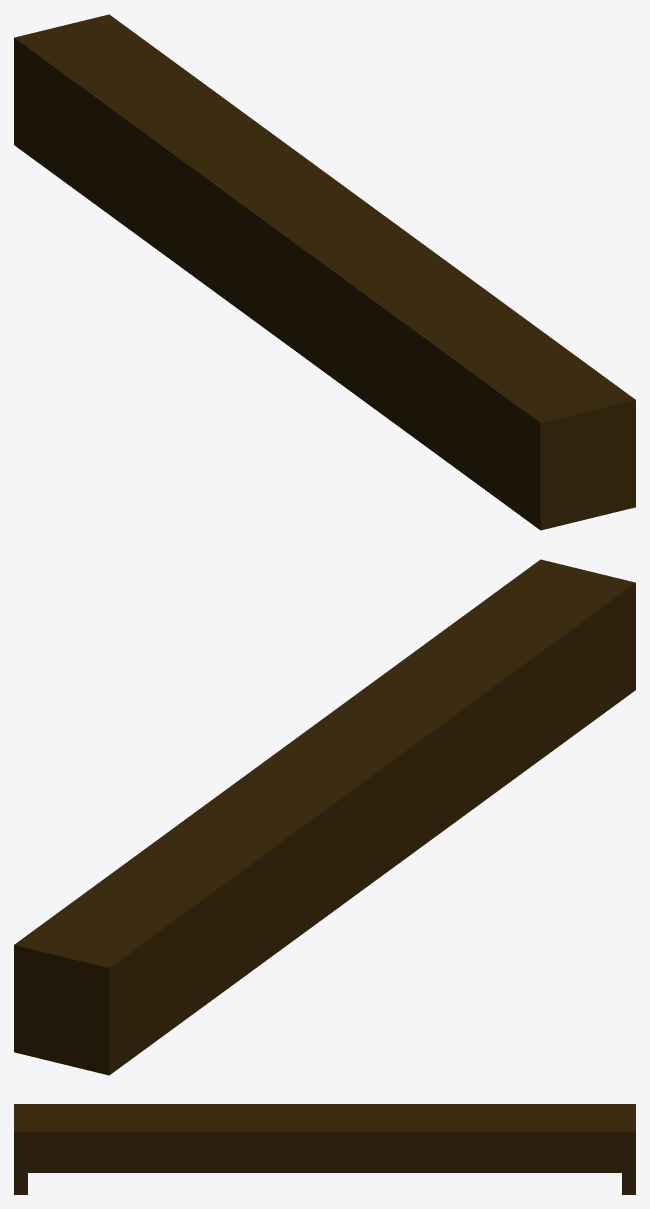
The model's file is Bar.fbx.
The picture shows the model from 3 angles, top to bottom: view 1: azimuth 30°, elevation 25°; view 2: azimuth 150°, elevation 25°; view 3: azimuth 270°, elevation 25°; orthographic projection. The views are drawn at different scales.
Parts seen in each view (by area): view 1: Bar; view 2: Bar; view 3: Bar.
Boxes of the visible parts, bbox=[...] form: Bar: bbox=[14, 14, 635, 530]; Bar: bbox=[14, 559, 635, 1075]; Bar: bbox=[14, 1104, 635, 1194].
Bounding box in the file's own units: 468 × 504 × 4478.
